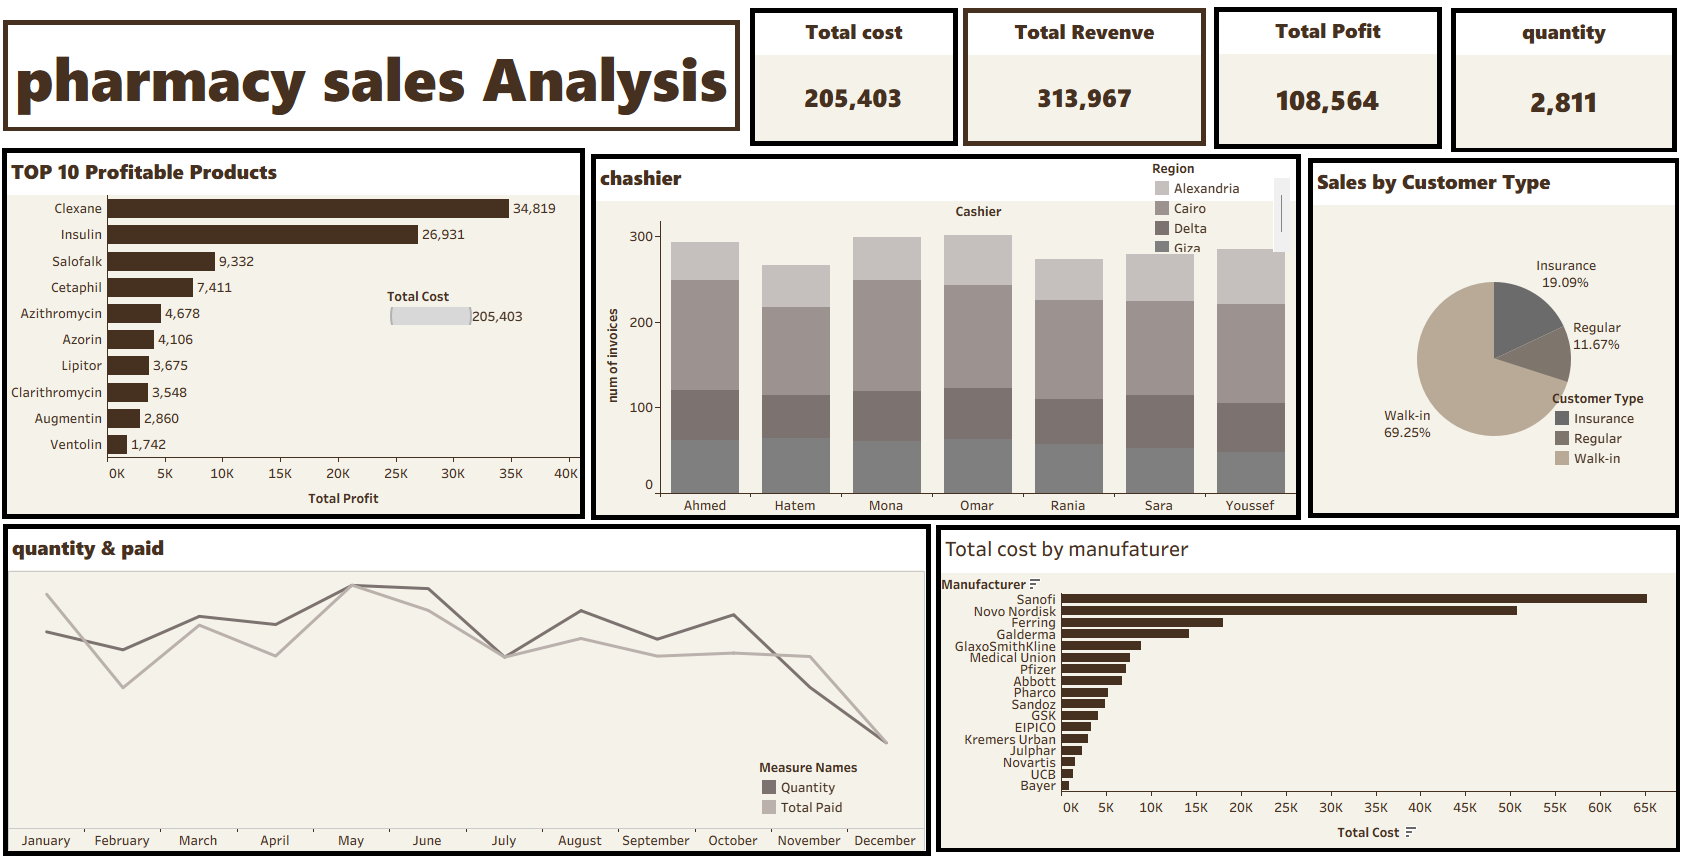

Layout of this report page (visuals, bound fields, positions):
{"tool":"tableau","page":{"name":"Dashboard 1","canvas":[1000,1000],"units":"permille","ordinal":0},"visuals":[{"type":"worksheet","title":"Total Pofit","mark":"Automatic","box":[715.3,7.6,134.1,165.6]},{"type":"worksheet","title":"Total cost","mark":"Automatic","box":[442.4,8.9,122.4,160.5]},{"type":"worksheet","title":"Total Revenve","mark":"Automatic","box":[567.6,8.9,142.9,160.5]},{"type":"worksheet","title":"quantity","mark":"Automatic","box":[854.7,8.9,132.9,168.2]},{"type":"text","box":[2.9,22.9,433.5,129.9]},{"type":"worksheet","title":"TOP 10 Profitable Products","mark":"Automatic","rows":["brand_name"],"cols":["Calculation_1251258385608706"],"box":[2.4,172,342.9,431.9]},{"type":"worksheet","title":"chashier","mark":"Automatic","rows":["Calculation_1251258398130179"],"cols":["cashier"],"box":[348.8,179.6,417.7,425.5]},{"type":"worksheet","title":"Sales by Customer Type","mark":"Pie","box":[770.6,183.4,218.8,419.1]},{"type":"legend","title":"chashier","param":"[federated.0sdddkv1k5fsn918gjx1t1s91341].[none:region:nk]","box":[678.8,184.7,82.4,108.3]},{"type":"legend","title":"Sales by Customer Type","param":"[federated.0sdddkv1k5fsn918gjx1t1s91341].[usr:Calculation_1251258385448961:qk]","box":[228.8,333.8,82.4,49.7]},{"type":"legend","title":"Sales by Customer Type","param":"[federated.0sdddkv1k5fsn918gjx1t1s91341].[none:customer_type:nk]","box":[914.1,452.2,82.4,100.6]},{"type":"worksheet","title":"quantity & paid","mark":"Automatic","rows":["quantity","total_paid"],"cols":["sale_datetime"],"box":[2.9,608.9,545.9,386]},{"type":"worksheet","title":"Total cost by manufaturer","mark":"Automatic","rows":["manufacturer"],"cols":["Calculation_1251258385448961"],"box":[551.8,610.2,438.2,380.9]},{"type":"legend","title":"quantity & paid","param":"[federated.0sdddkv1k5fsn918gjx1t1s91341].[:Measure Names]","box":[447.7,881.5,82.4,75.2]}]}

Visuals, with their boxes on the dashboard's canvas, which has no fixed pixel size, in thousandths of its width and height (x1, y1, x2, y2). These are canvas units, not pixel positions in the 1682x861 screenshot, which may show the page scaled, cropped or inside an application window:
"Total Pofit" worksheet: {"left": 715, "top": 8, "right": 849, "bottom": 173}
"Total cost" worksheet: {"left": 442, "top": 9, "right": 565, "bottom": 169}
"Total Revenve" worksheet: {"left": 568, "top": 9, "right": 710, "bottom": 169}
"quantity" worksheet: {"left": 855, "top": 9, "right": 988, "bottom": 177}
text: {"left": 3, "top": 23, "right": 436, "bottom": 153}
"TOP 10 Profitable Products" worksheet: {"left": 2, "top": 172, "right": 345, "bottom": 604}
"chashier" worksheet: {"left": 349, "top": 180, "right": 766, "bottom": 605}
"Sales by Customer Type" worksheet (Pie marks): {"left": 771, "top": 183, "right": 989, "bottom": 602}
"chashier" legend: {"left": 679, "top": 185, "right": 761, "bottom": 293}
"Sales by Customer Type" legend: {"left": 229, "top": 334, "right": 311, "bottom": 384}
"Sales by Customer Type" legend: {"left": 914, "top": 452, "right": 996, "bottom": 553}
"quantity & paid" worksheet: {"left": 3, "top": 609, "right": 549, "bottom": 995}
"Total cost by manufaturer" worksheet: {"left": 552, "top": 610, "right": 990, "bottom": 991}
"quantity & paid" legend: {"left": 448, "top": 882, "right": 530, "bottom": 957}
